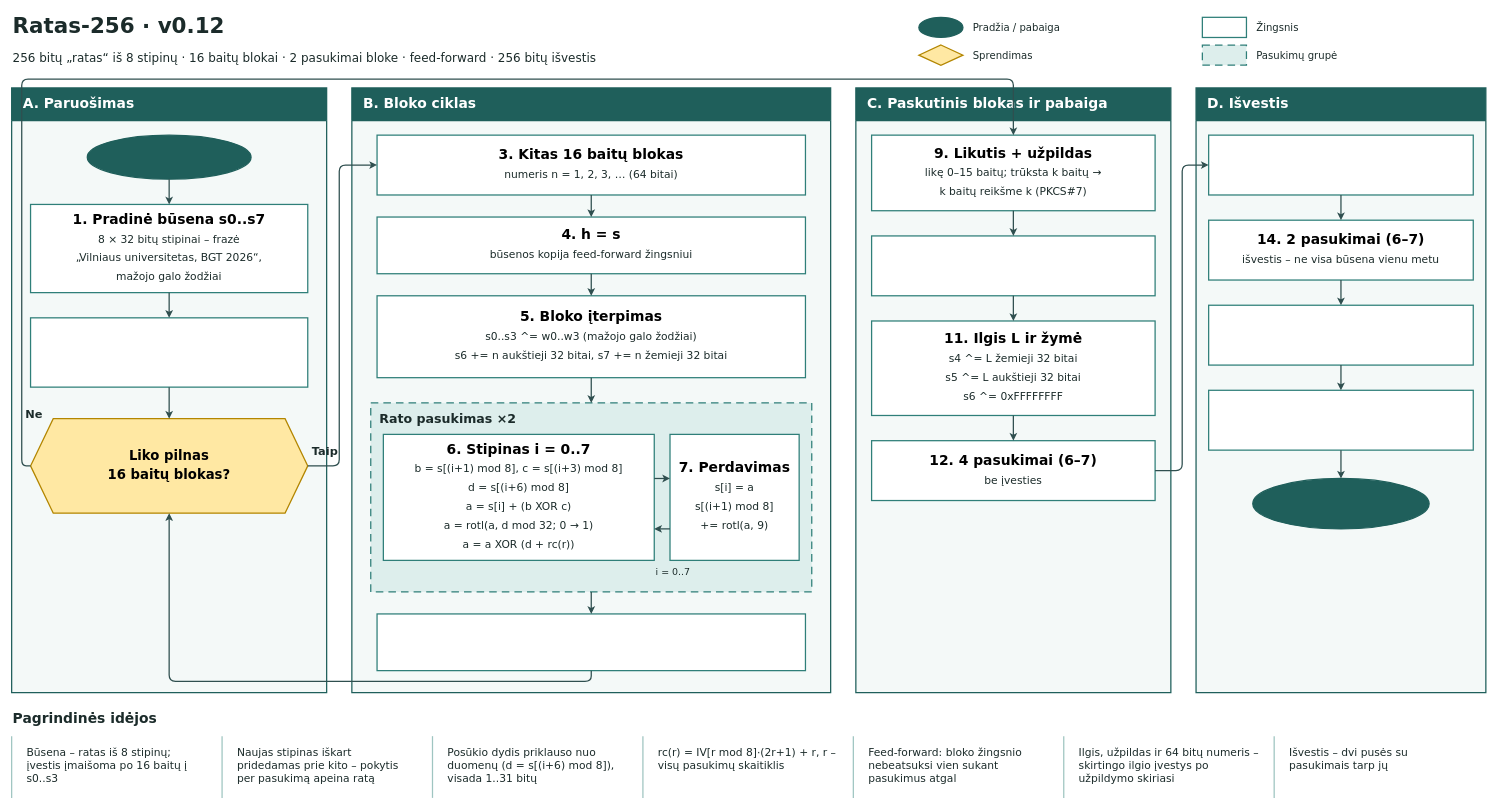
Some shapes in this 1497 by 808 pixel diagram are drawn without their labels. The shapes that lost their labels are listed below. From the top down, each one's centre as x and y in pixels, then its label:
At (168,157): "Pradžia".
At (1341,164): "13. Pirma pusė s0..s3 → baitai 0..15".
At (1013,265): "10. Bloko žingsnis 4–8 su paskutiniu numeriu n".
At (169,352): "2. Įvestis → baitai tekstas – UTF-8, failas – tikslūs jo baitai".
At (1341,334): "15. Antra pusė s0..s3 → baitai 16..31".
At (1341,419): "16. Hex užrašas 64 simboliai, mažosios raidės".
At (1340,503): "Maiša (64 hex)".
At (591,642): "8. Feed-forward s[i] += h[i], i = 0..7".
